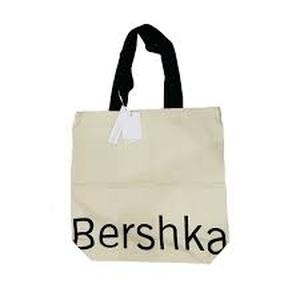bershka: (191, 87, 265, 300)
